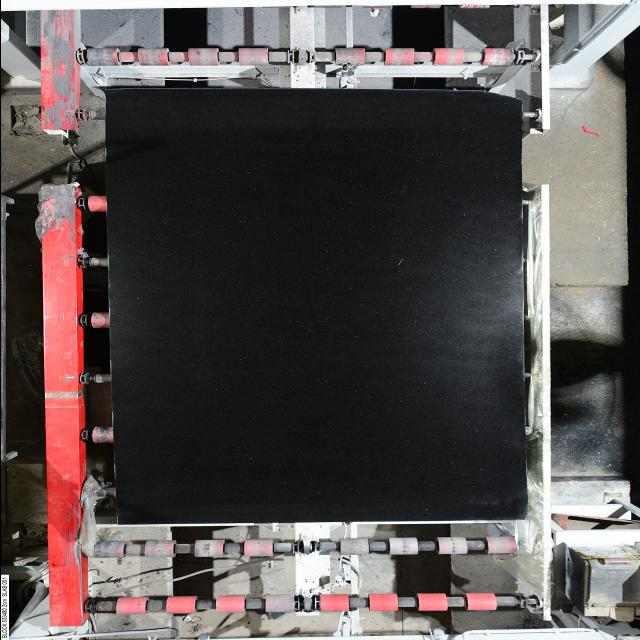chapa: (105, 89, 527, 524)
